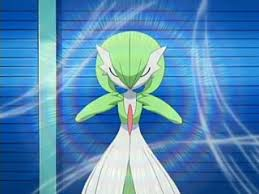gardevoir: (75, 31, 186, 194)
